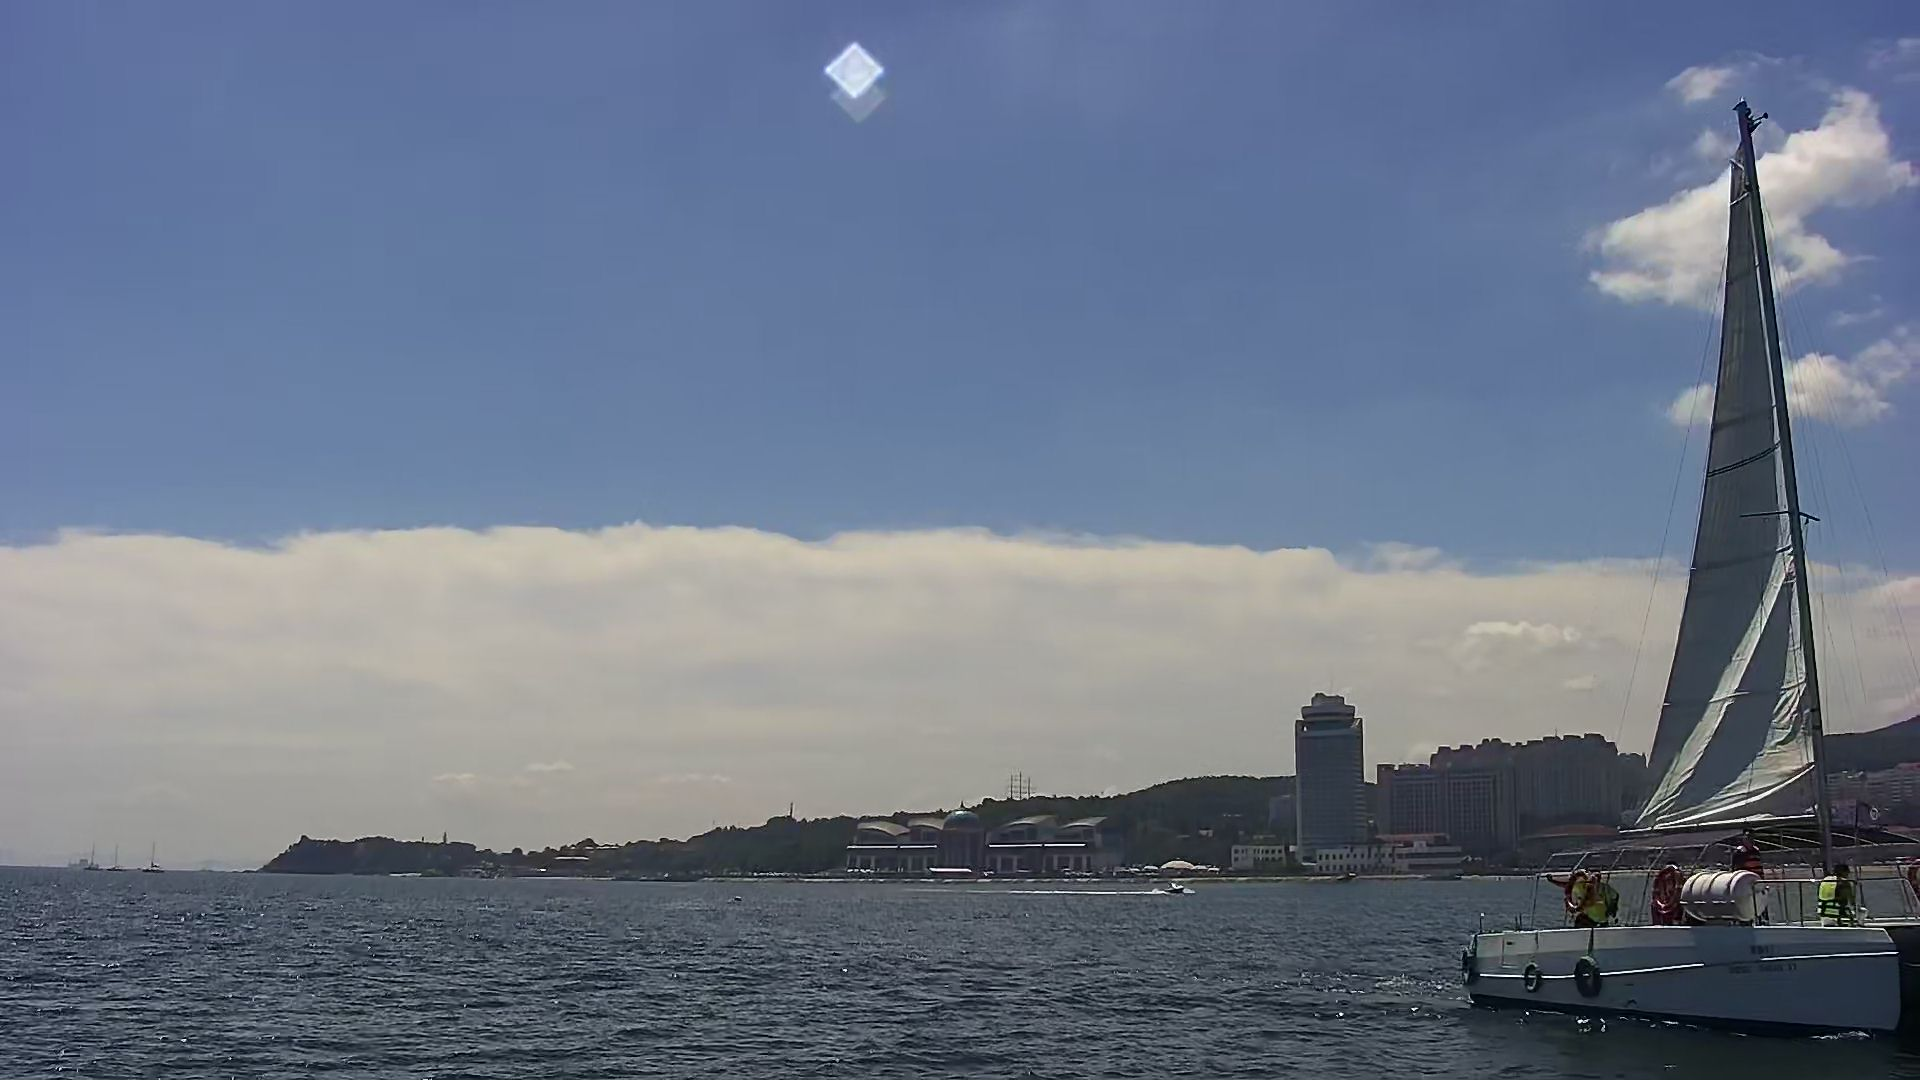boat: (1468, 96, 1920, 1052)
